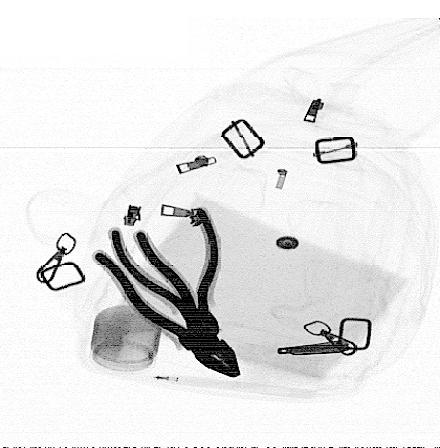Pliers: (93, 228, 241, 380), (108, 206, 225, 344)
